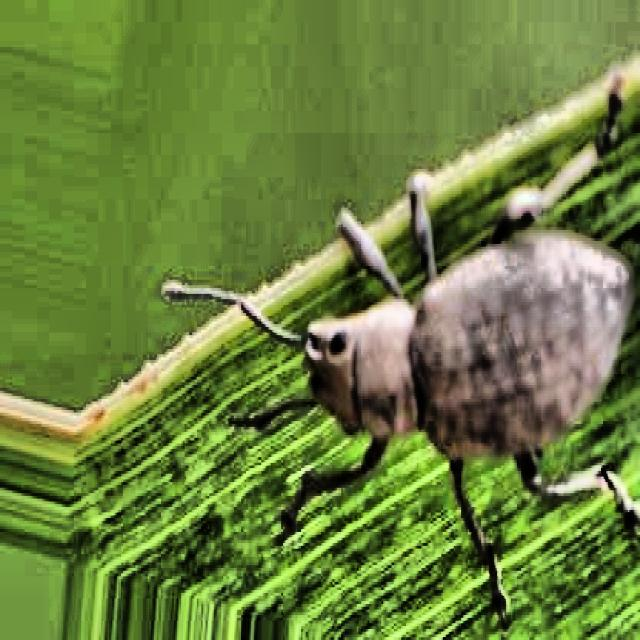Stink bug: (189, 36, 640, 610)
